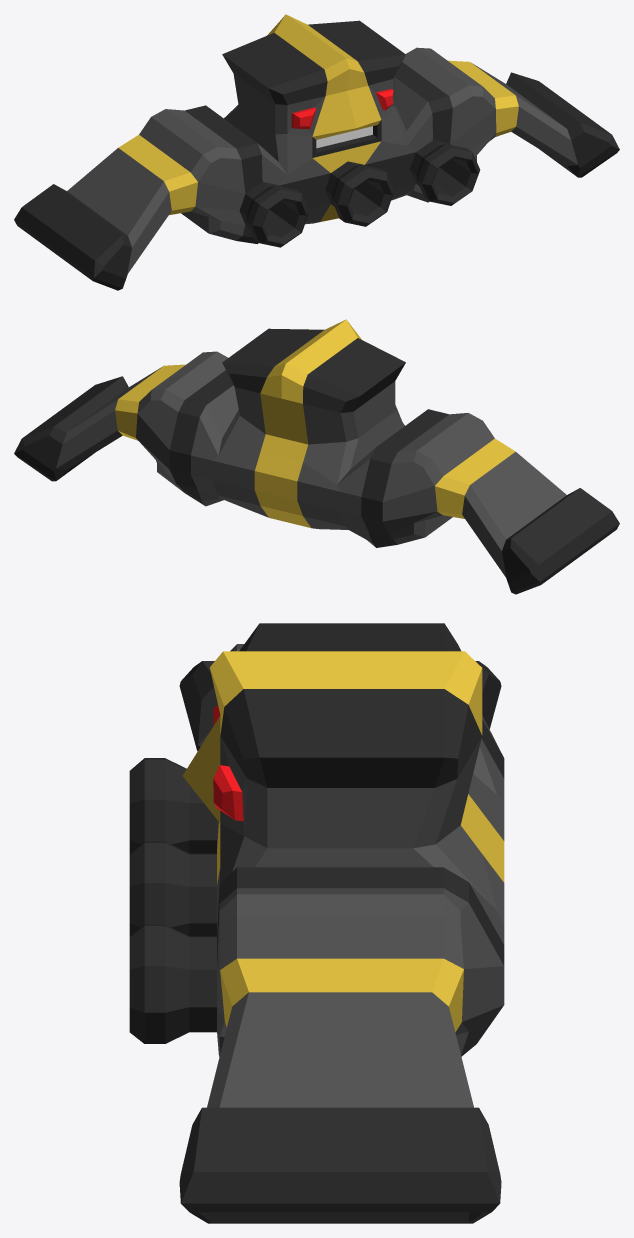
File: Boss.fbx
The picture shows the model from 3 angles, top to bottom: view 1: azimuth 30°, elevation 25°; view 2: azimuth 150°, elevation 25°; view 3: azimuth 270°, elevation 25°; orthographic projection. The views are drawn at different scales.
Visible parts, largest first — view 1: Cube; view 2: Cube; view 3: Cube.
Boxes of the visible parts, left/top/right/bottom form: Cube: left=14, top=14, right=619, bottom=290; Cube: left=14, top=319, right=619, bottom=594; Cube: left=129, top=623, right=504, bottom=1223.
Size of the model in its own units: 1884 by 592 by 580.
